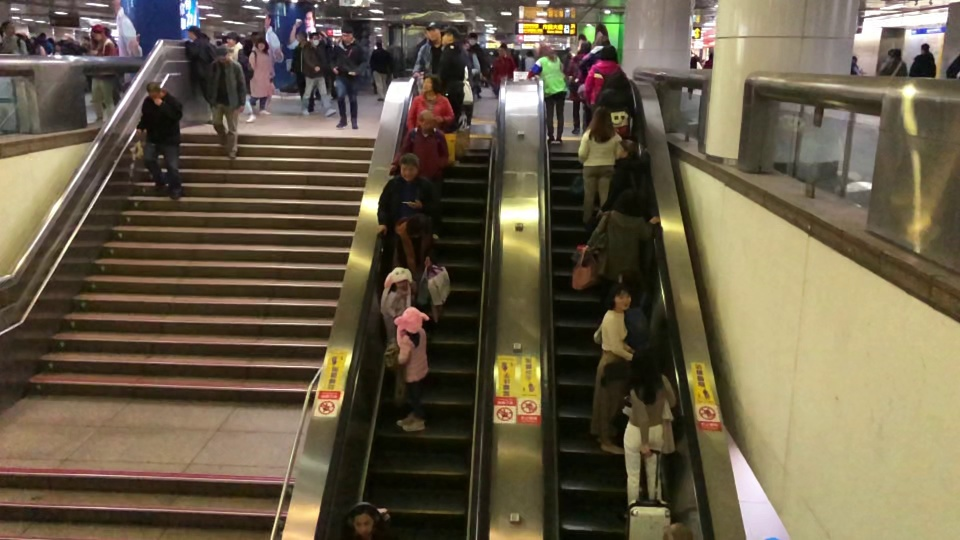person_head: (631, 344, 661, 375), (352, 506, 375, 535), (406, 214, 431, 237), (617, 189, 639, 213), (399, 152, 419, 178), (609, 285, 630, 308), (619, 266, 643, 286), (593, 106, 612, 130), (420, 72, 441, 91), (416, 109, 435, 129), (145, 81, 162, 98), (607, 73, 624, 89), (602, 44, 617, 62), (618, 142, 637, 156), (442, 27, 457, 44), (340, 25, 354, 43), (405, 315, 418, 334), (186, 25, 202, 39), (215, 45, 229, 61), (427, 24, 441, 39), (3, 21, 16, 36), (538, 43, 552, 56), (256, 35, 268, 50), (90, 26, 103, 39), (579, 40, 591, 54), (595, 35, 610, 46), (225, 32, 237, 45), (394, 274, 406, 287), (468, 32, 478, 45), (891, 48, 902, 58), (309, 33, 318, 45), (498, 44, 507, 56), (920, 42, 929, 52), (526, 49, 534, 57), (296, 31, 303, 40), (375, 40, 382, 47), (709, 51, 713, 58), (852, 56, 856, 63)
person_vbox: (622, 344, 677, 504), (389, 109, 451, 241), (589, 285, 634, 458), (586, 190, 660, 286), (134, 80, 184, 199), (374, 151, 441, 236), (577, 106, 624, 224), (599, 265, 657, 352), (206, 46, 247, 159), (392, 315, 429, 433), (527, 43, 568, 144), (330, 24, 369, 130), (598, 142, 650, 215), (382, 274, 410, 404), (389, 214, 436, 281), (404, 72, 455, 133), (300, 33, 336, 117), (184, 25, 215, 122), (87, 26, 117, 121), (225, 32, 256, 123), (583, 45, 625, 105), (566, 41, 591, 134), (247, 35, 275, 114), (600, 74, 634, 137), (290, 31, 315, 113), (441, 26, 473, 86), (412, 24, 441, 78), (369, 39, 393, 102), (578, 34, 611, 74), (491, 43, 516, 88), (909, 42, 937, 77), (2, 20, 28, 55), (879, 48, 907, 77), (688, 50, 698, 100), (945, 53, 960, 79), (521, 48, 534, 70), (850, 56, 862, 75), (702, 51, 713, 69)
